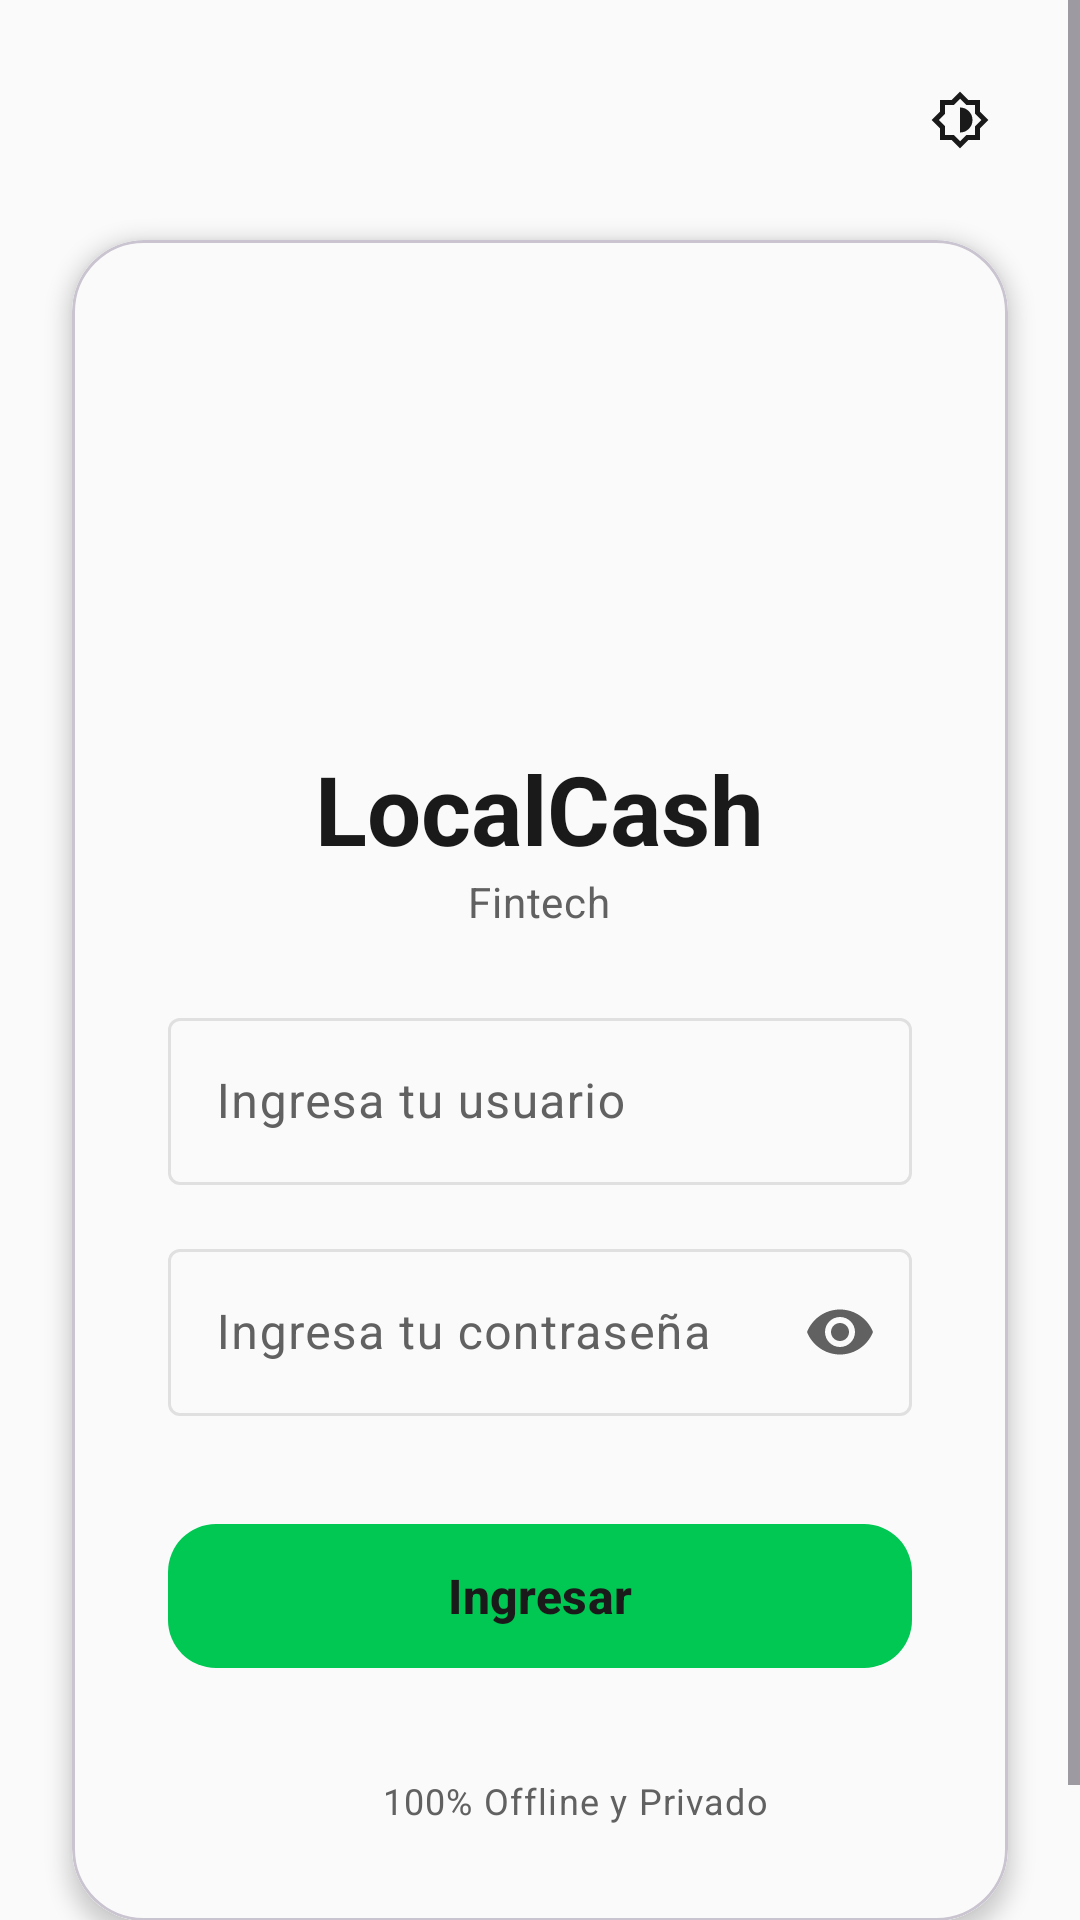

Icons on this 1080*1920 Android screen, each with its box as (x1, y1, x2, y2):
Cambiar tema claro/oscuro: (932, 92, 988, 148)
